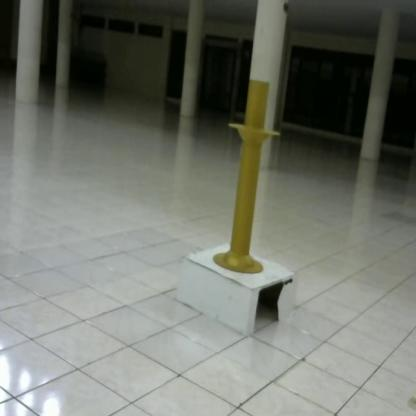pole: (211, 73, 283, 281)
